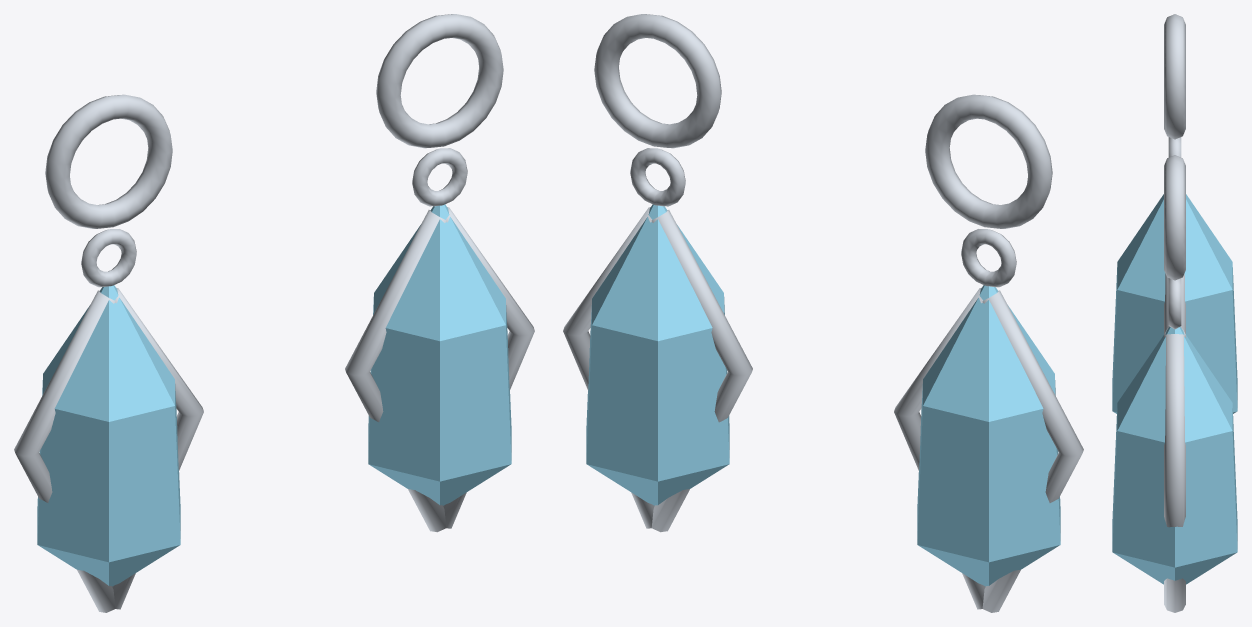
File: acc_clarity_earring.fbx
3 renders of one model, left to right at view 1: azimuth 30°, elevation 25°; view 2: azimuth 150°, elevation 25°; view 3: azimuth 270°, elevation 25°, orthographic. The views are drawn at different scales.
Visible parts, largest first — view 1: acc_clarity_earring; view 2: acc_clarity_earring; view 3: acc_clarity_earring.
Part boxes in pixels (left/top/right/bottom): acc_clarity_earring: left=14, top=14, right=534, bottom=612; acc_clarity_earring: left=563, top=14, right=1083, bottom=612; acc_clarity_earring: left=1112, top=14, right=1237, bottom=612.
Size of the model in its own units: 0.282 by 0.2667 by 0.0675.
